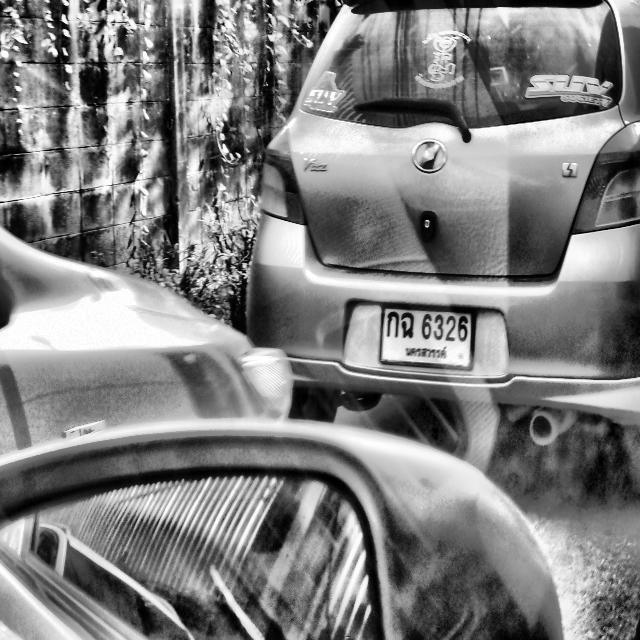license-plate: (380, 305, 477, 367)
